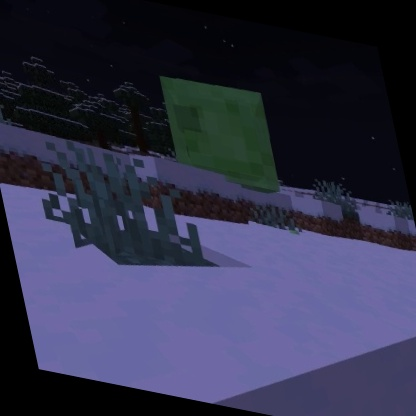slime: (153, 67, 291, 200)
